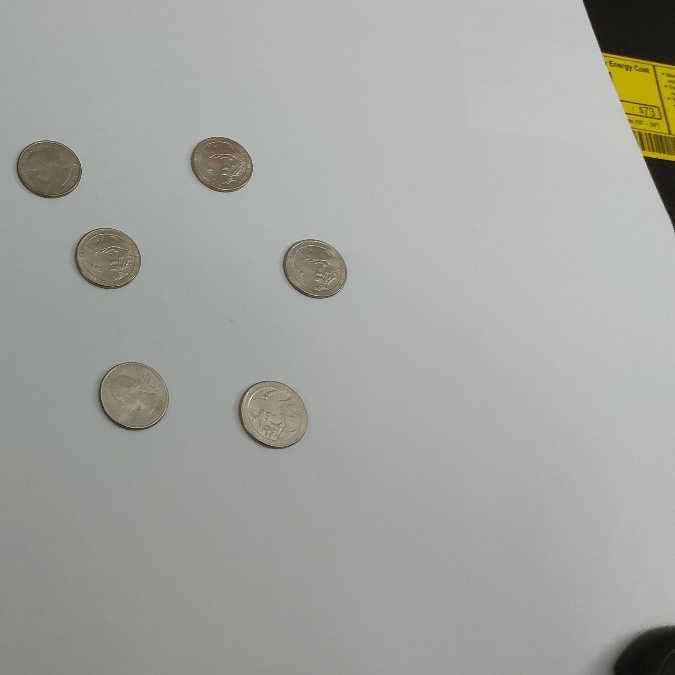coin_quarter: (92, 356, 174, 434), (233, 375, 314, 453), (278, 231, 349, 301), (71, 222, 142, 292), (12, 134, 85, 201), (189, 132, 261, 194)
